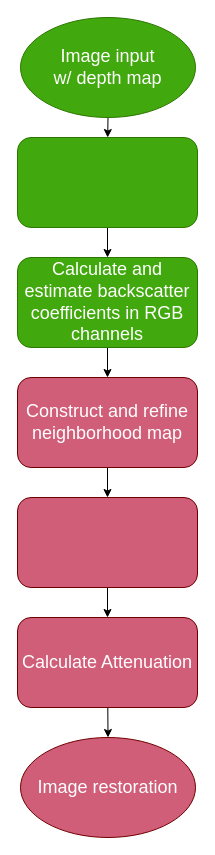
The diagram is 215 pixels wide and 855 high, and some of its shapes have lost their labels. The shapes that lost their labels are listed below. From the top down, each one's centre as x and y in pixels, then its label:
At point (107, 182): "Apply upper and lower bound to the depth image (Preprocess)".
At point (107, 542): "Estimate illumination in RGB channels".
